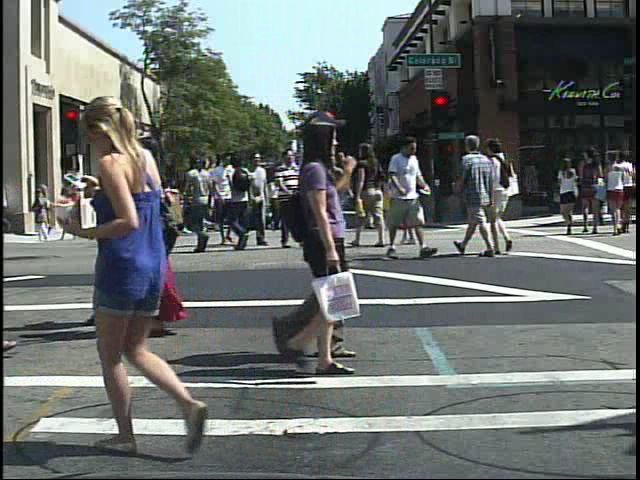person: (73, 83, 238, 470), (253, 118, 366, 380), (121, 134, 205, 343), (311, 106, 375, 367), (90, 129, 134, 331), (384, 136, 435, 263), (454, 128, 498, 264), (275, 146, 321, 253), (352, 136, 394, 252), (222, 150, 263, 260), (184, 146, 223, 258), (389, 144, 429, 250), (489, 133, 522, 256), (236, 148, 274, 254), (208, 151, 245, 253), (555, 152, 585, 236), (182, 171, 202, 239), (67, 182, 87, 232)
